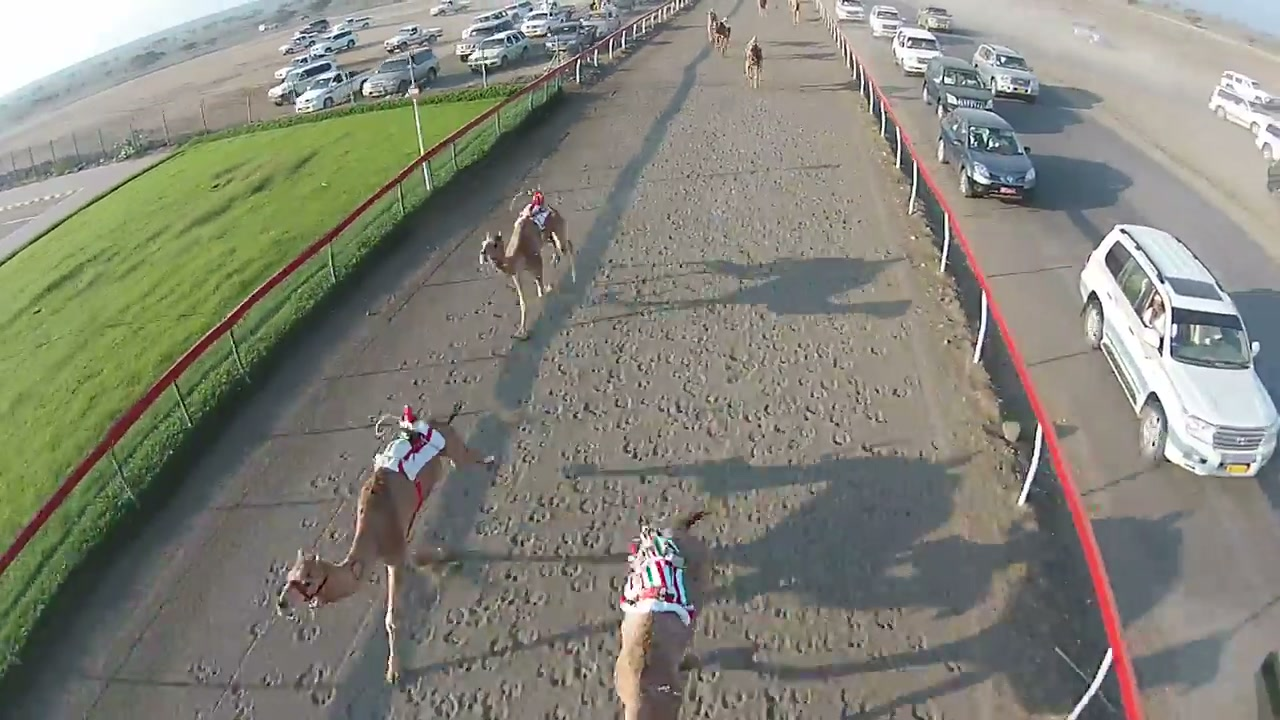animal_footprint: (388, 209, 753, 719)
